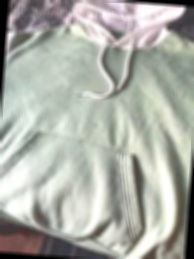oil: (69, 130, 97, 166), (89, 115, 103, 129)
